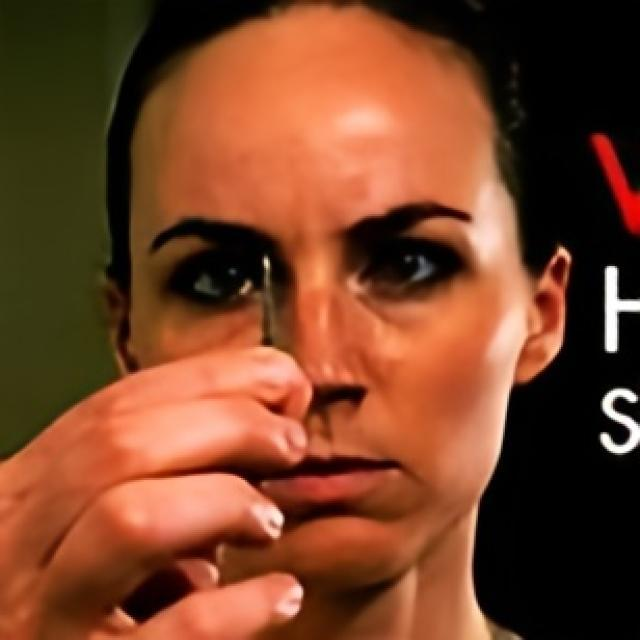anger: (124, 35, 524, 578)
